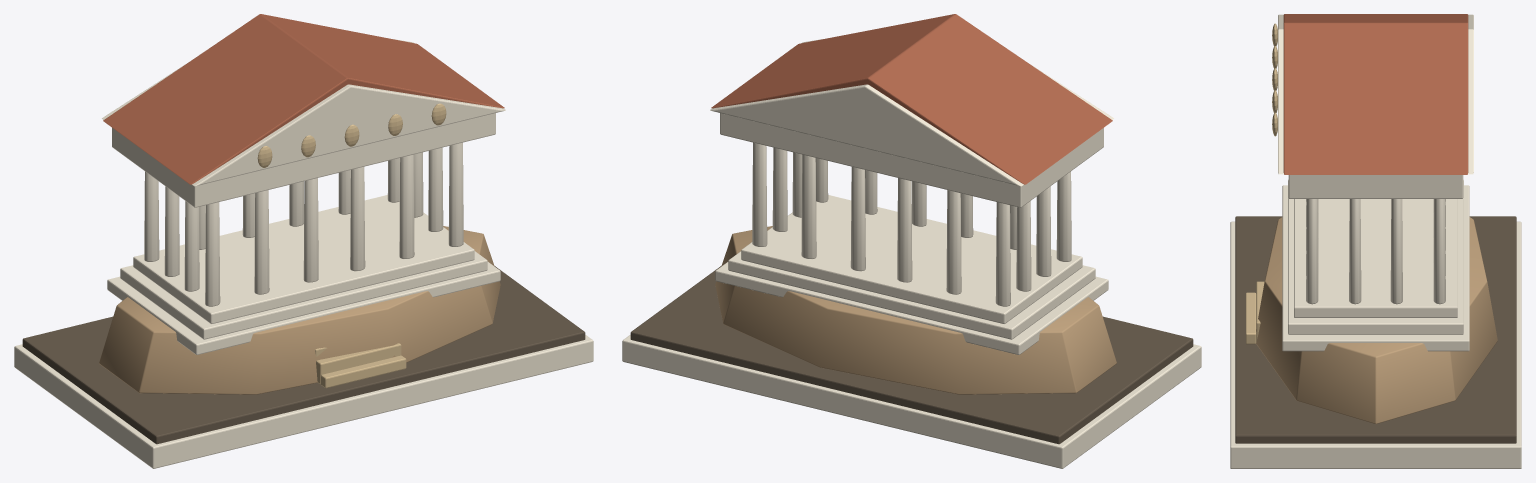
The model's file is acropolis.glb.
The picture shows the model from 3 angles, left to right: view 1: azimuth 30°, elevation 25°; view 2: azimuth 150°, elevation 25°; view 3: azimuth 270°, elevation 25°; orthographic projection. The views are drawn at different scales.
Visible parts, largest first — view 1: Acropolis; view 2: Acropolis; view 3: Acropolis.
Boxes of the visible parts, x1=… form: Acropolis: x1=14, y1=14, x2=593, y2=468; Acropolis: x1=622, y1=14, x2=1201, y2=468; Acropolis: x1=1230, y1=14, x2=1521, y2=468.
Size of the model in its own units: 1.47 by 1.02 by 0.8064.
